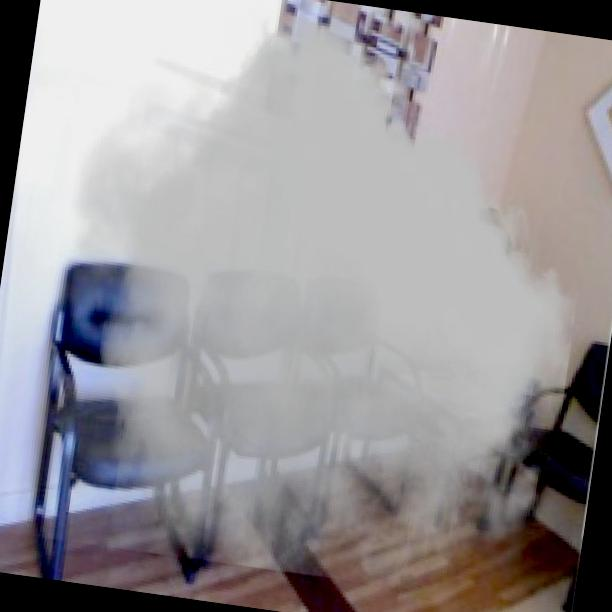smoke: (13, 0, 612, 608)
